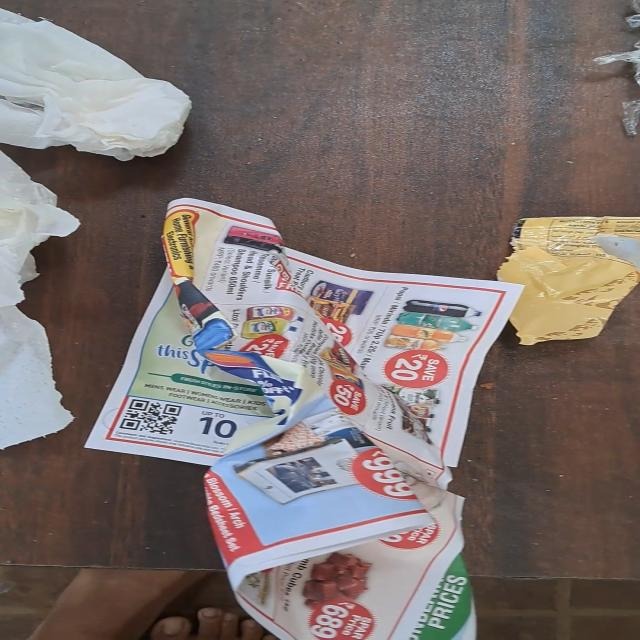Anorganik: (540, 212, 639, 339)
Organik: (89, 197, 523, 640), (0, 4, 194, 158)
